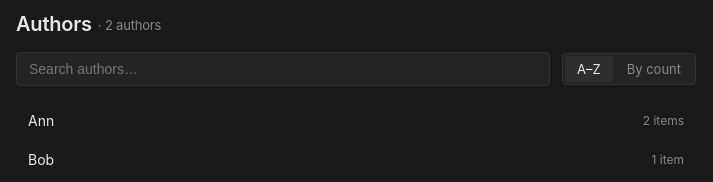
Test: AuthorsView › filters authors by the search box
Expected: the button "Ann 2 items" is shown, x1=16 y1=102 x2=696 y2=139
Type "bo" into the field with placeholder "Search authors…" at point(283, 69), box x1=16 y1=52 x2=550 y2=86
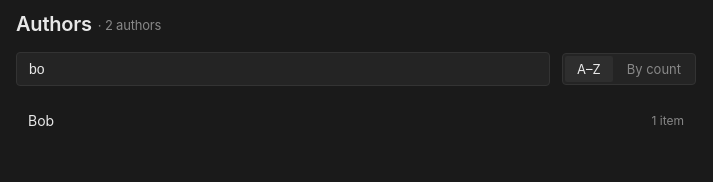
Expected: the button "Bob 1 item" is shown, x1=16 y1=102 x2=696 y2=139
Now the button "Ann" is gone
